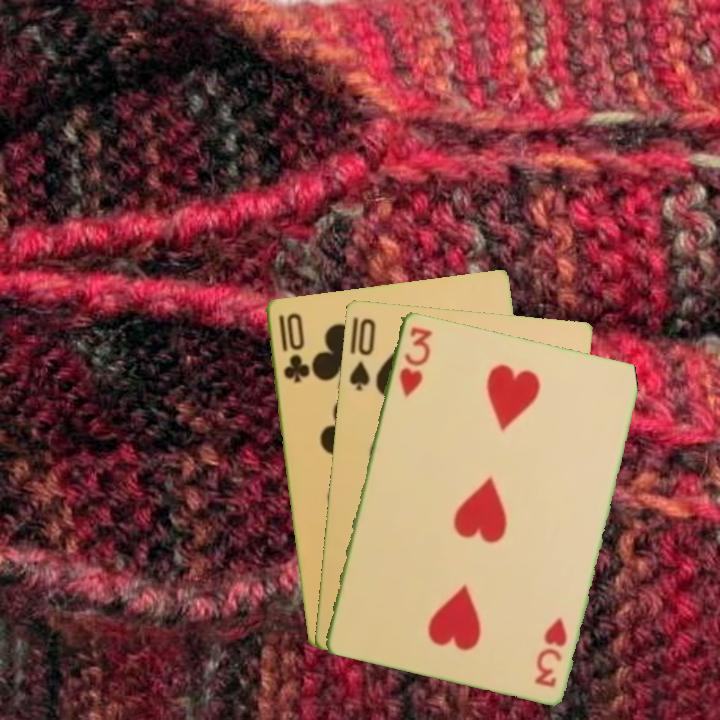10c: (274, 308, 311, 386)
10s: (345, 314, 378, 393)
3h: (395, 322, 435, 399), (531, 613, 570, 690)
